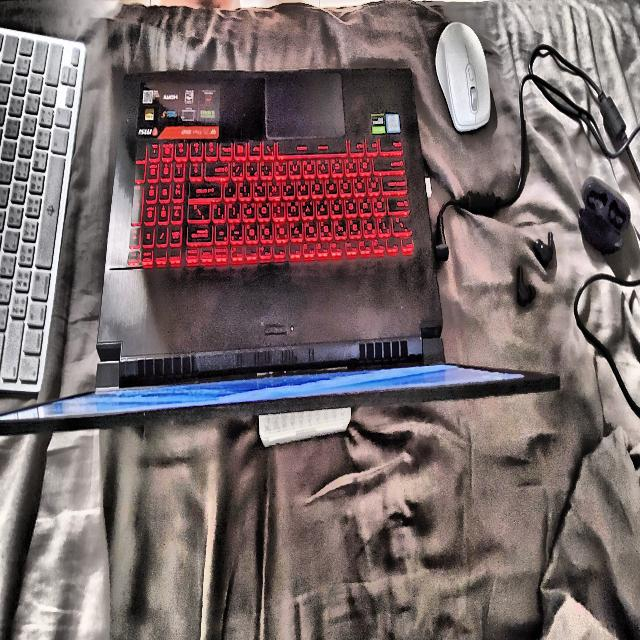Bluetooth headphones: (578, 178, 630, 255), (516, 266, 536, 306), (533, 231, 554, 269)
Keyboard: (0, 27, 85, 395)
Laptop: (0, 68, 559, 434)
MOUSE: (435, 22, 491, 131)
